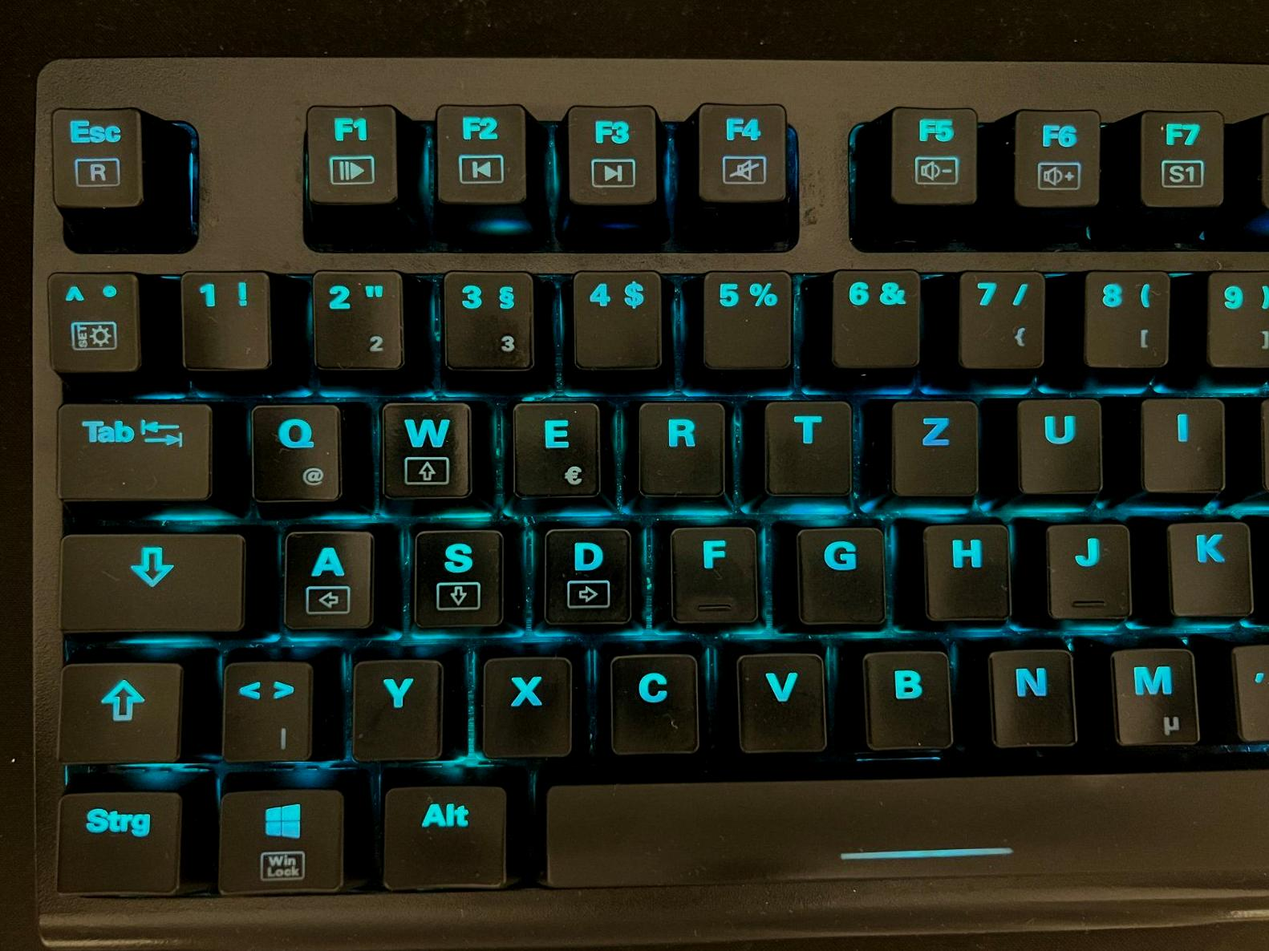1: (176, 265, 274, 370)
2: (307, 265, 407, 373)
3: (436, 265, 538, 374)
4: (567, 265, 665, 371)
5: (696, 264, 796, 372)
6: (826, 263, 925, 370)
7: (954, 265, 1048, 370)
8: (1079, 265, 1174, 370)
9: (1203, 268, 1269, 370)
a: (277, 521, 379, 632)
alt-left: (377, 778, 510, 888)
b: (858, 641, 956, 750)
c: (602, 645, 703, 755)
caret: (49, 268, 146, 372)
d: (535, 522, 637, 633)
e: (509, 396, 605, 500)
f: (665, 519, 761, 626)
g: (790, 519, 890, 625)
h: (918, 516, 1012, 621)
i: (1138, 391, 1227, 492)
j: (1042, 516, 1133, 621)
k: (1166, 515, 1256, 617)
keyboard: (26, 55, 1269, 950)
less: (217, 655, 316, 762)
m: (1106, 641, 1201, 746)
n: (984, 641, 1077, 747)
q: (246, 397, 346, 505)
r: (633, 395, 729, 498)
s: (405, 522, 507, 633)
shift-left: (51, 657, 185, 762)
shift-lock: (54, 527, 252, 633)
space: (524, 767, 1269, 886)
strg-left: (50, 787, 184, 893)
t: (760, 394, 855, 496)
tab: (51, 395, 218, 502)
u: (1013, 392, 1106, 496)
v: (732, 644, 830, 753)
w: (376, 395, 476, 502)
x: (476, 650, 577, 758)
y: (347, 653, 446, 760)
z: (887, 393, 983, 498)
